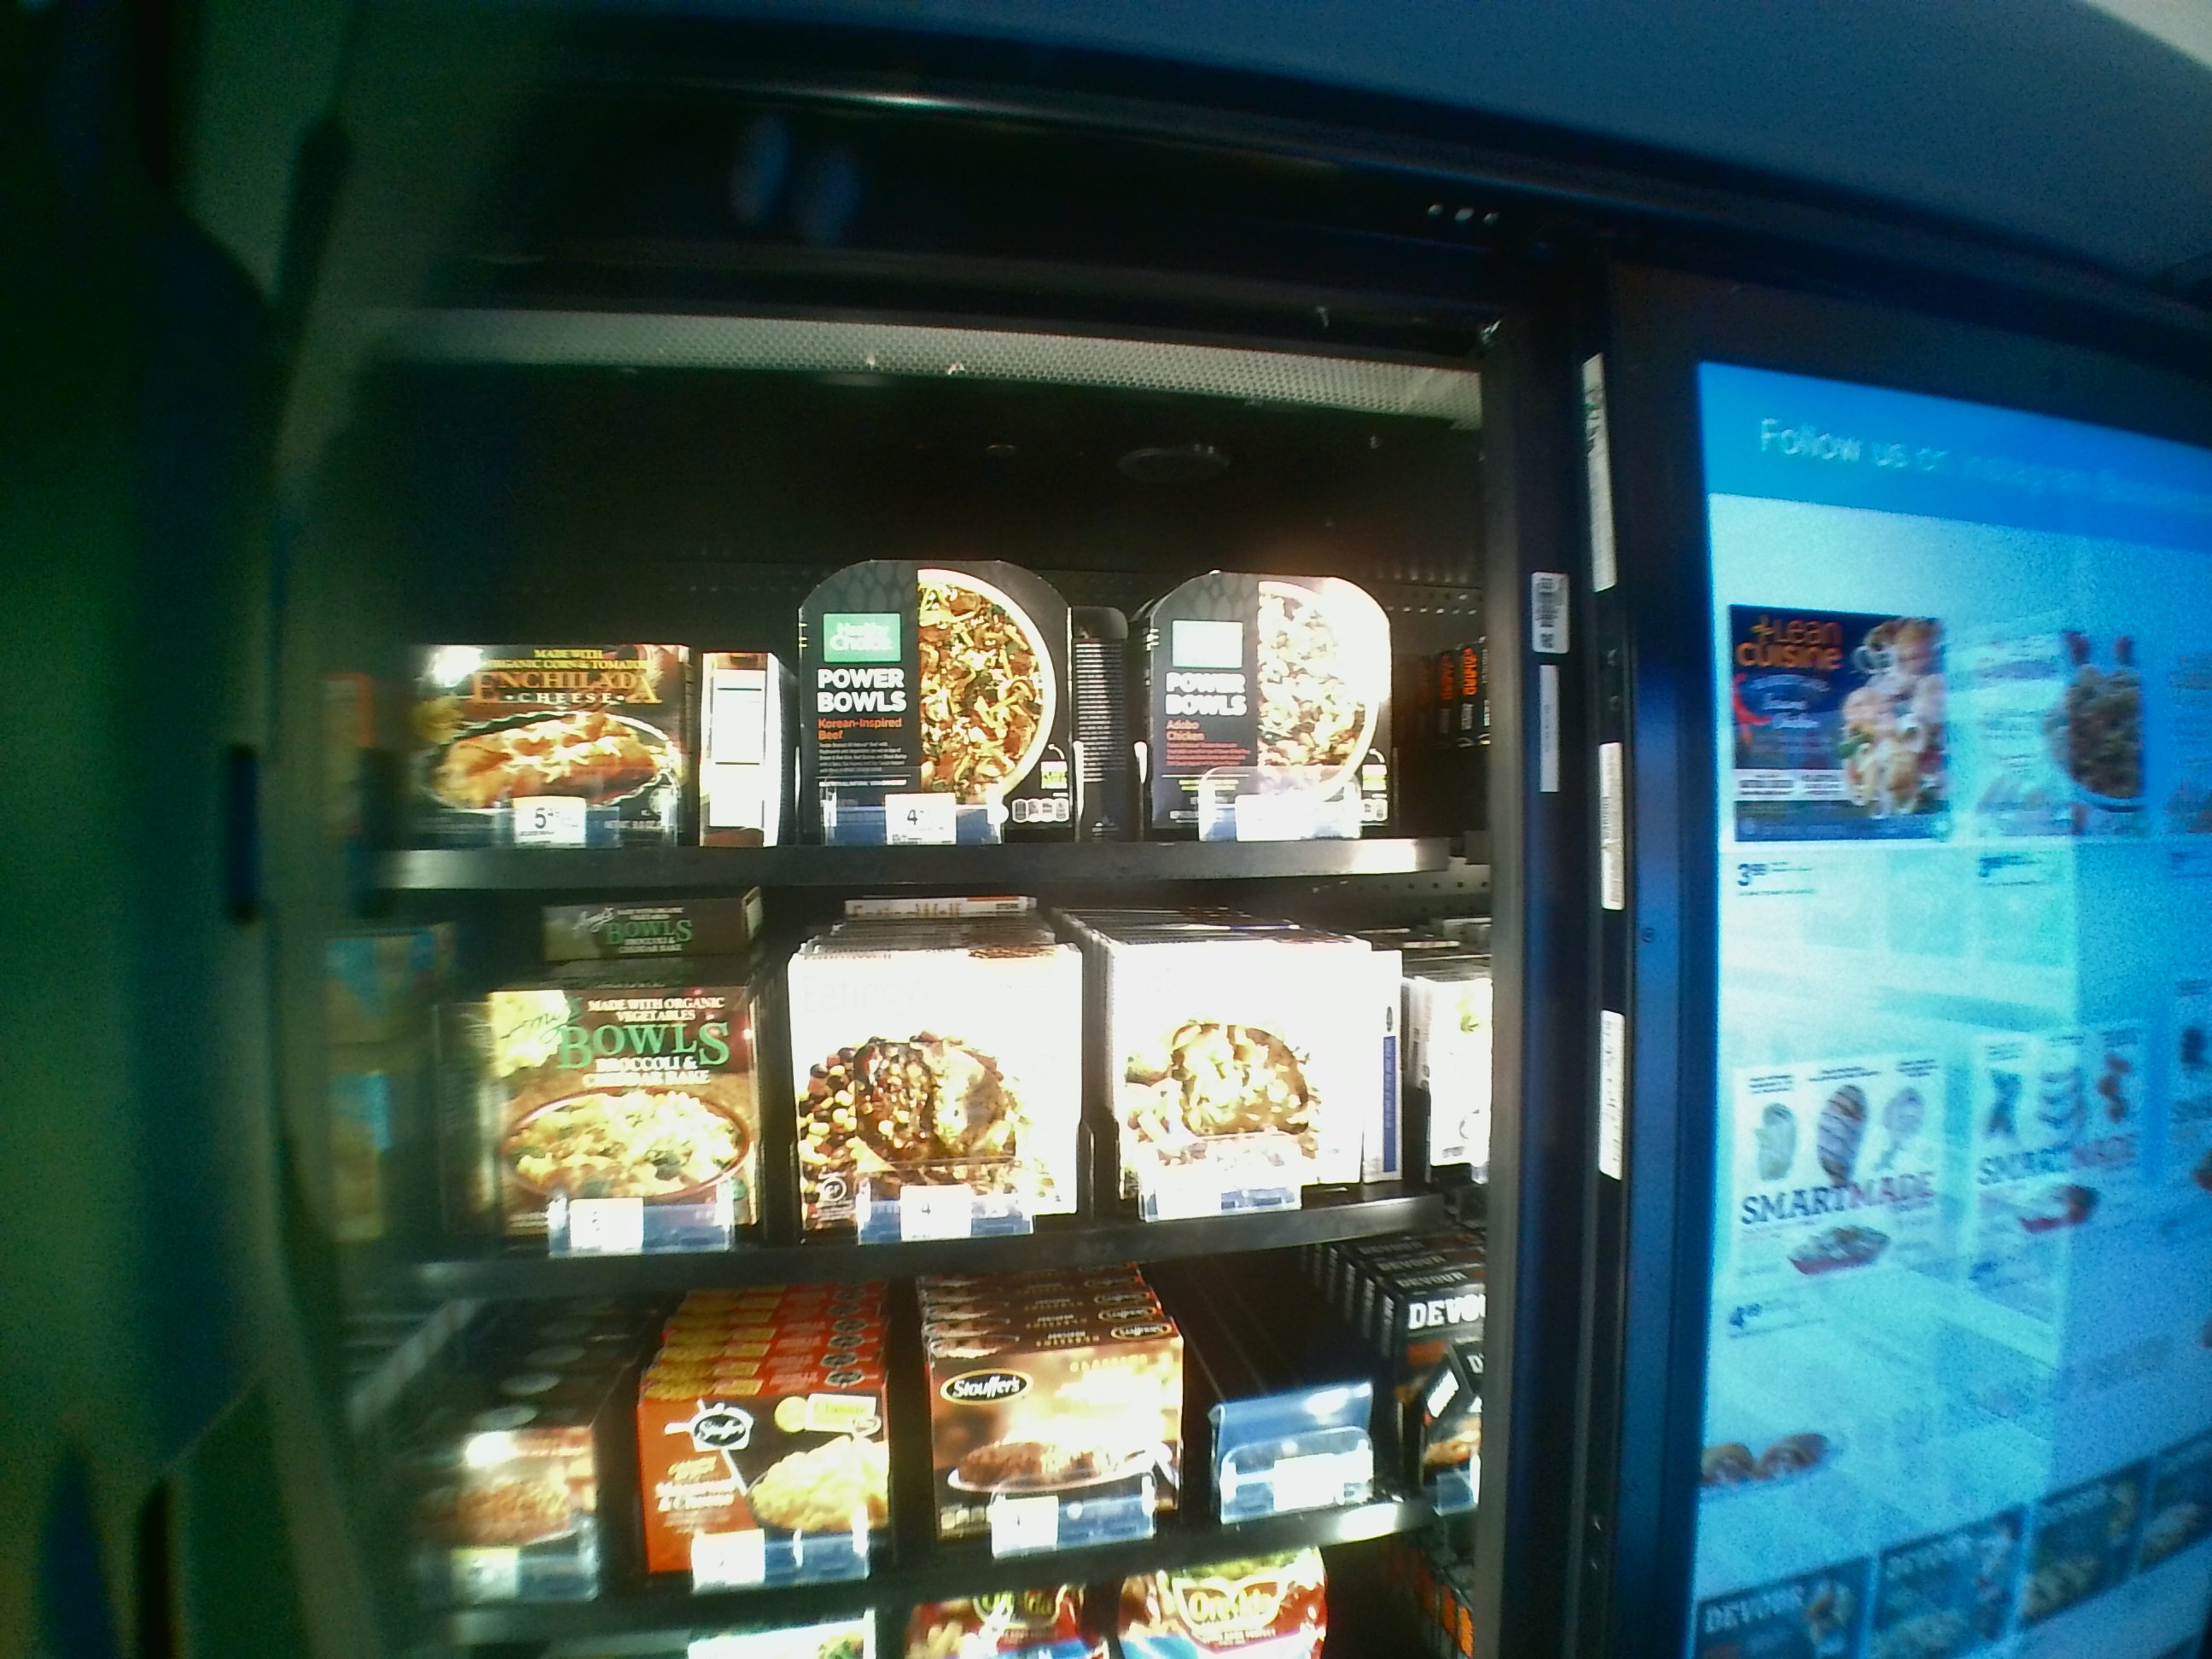shelf: (347, 430, 1470, 889), (347, 904, 1480, 1316)
